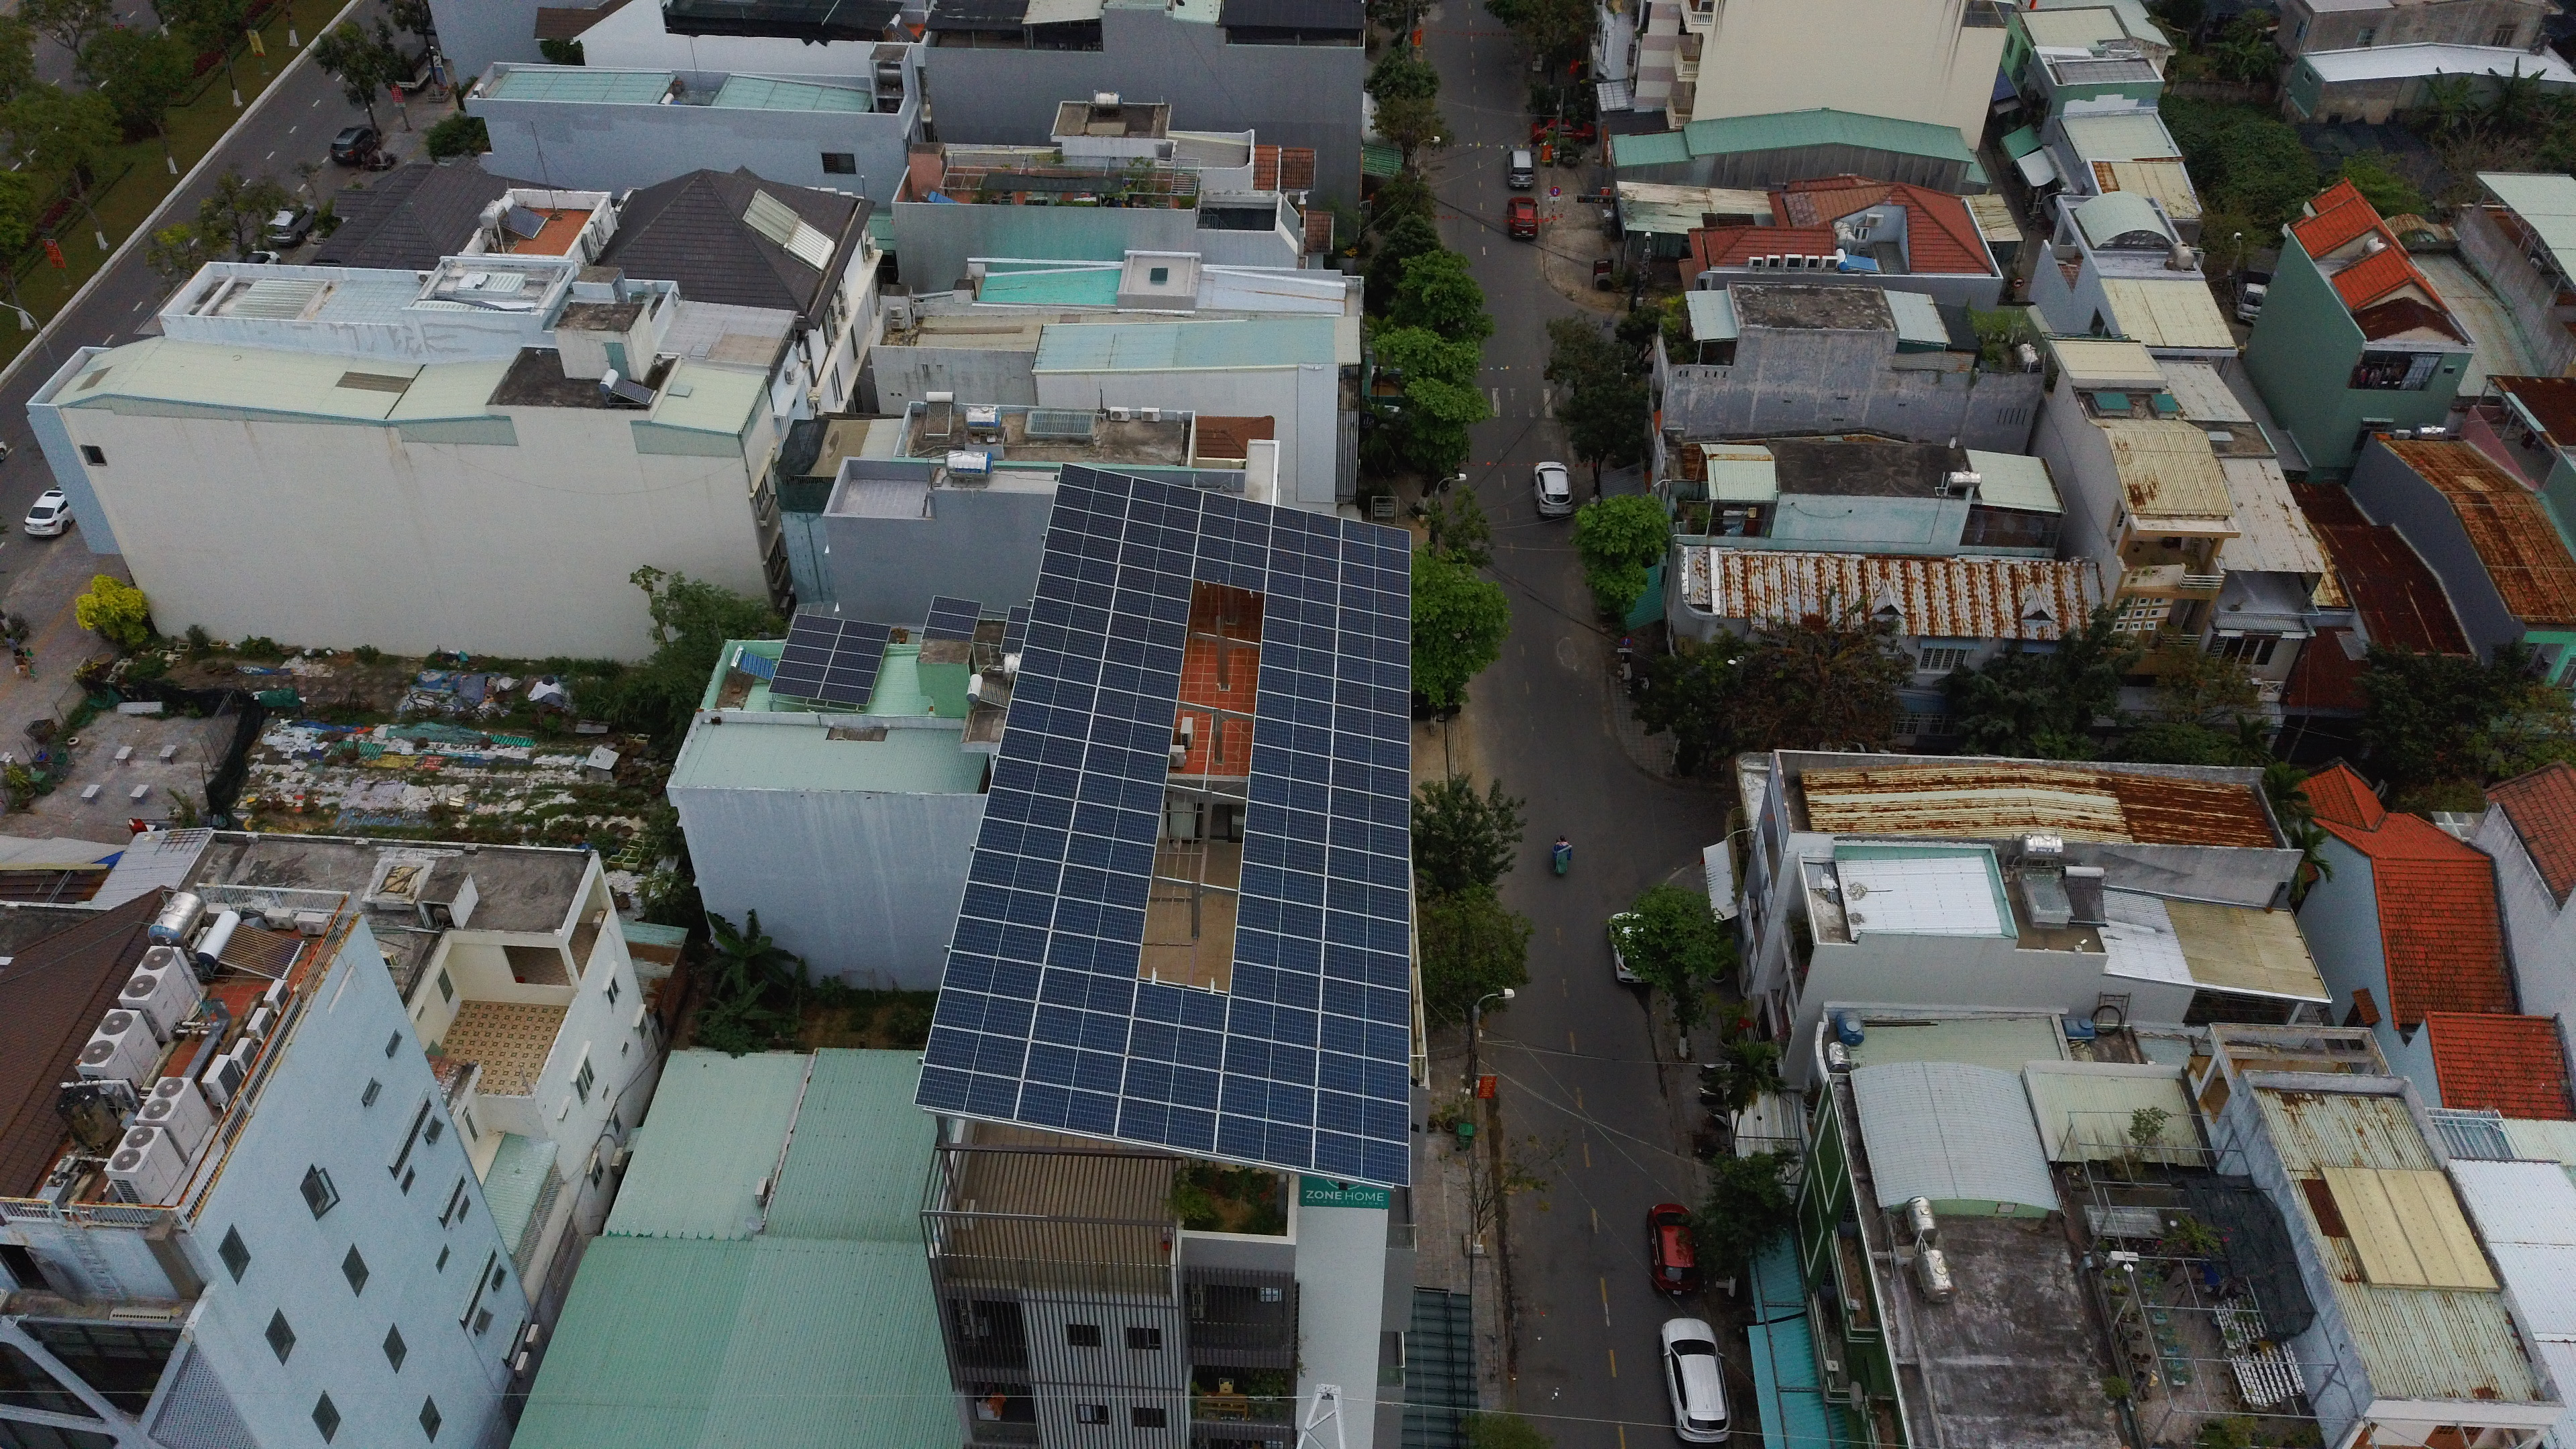solar: (922, 1021, 1031, 1079), (911, 1063, 1021, 1122), (1111, 1093, 1217, 1154), (1014, 1079, 1122, 1138), (1122, 1016, 1226, 1074), (1021, 1040, 1127, 1097), (1116, 1053, 1219, 1111), (1212, 1113, 1313, 1171), (1035, 964, 1138, 1021), (1129, 978, 1231, 1035), (1217, 1072, 1316, 1131), (1311, 1129, 1410, 1187), (939, 948, 1047, 1001), (1221, 1033, 1318, 1092), (932, 987, 1037, 1040), (1030, 1003, 1131, 1058), (947, 915, 1053, 966), (1315, 1088, 1410, 1143), (1316, 1049, 1410, 1104), (957, 879, 1056, 931), (1228, 961, 1323, 1014), (1318, 975, 1410, 1030), (1056, 862, 1154, 913), (1051, 893, 1148, 945), (1040, 929, 1138, 980), (1224, 996, 1318, 1049), (978, 784, 1077, 833), (964, 847, 1063, 897), (1318, 1010, 1410, 1063), (975, 814, 1072, 863), (1042, 931, 1139, 980), (1233, 893, 1323, 945), (1231, 925, 1322, 977), (1322, 906, 1410, 957), (1069, 800, 1161, 847), (1238, 860, 1327, 909), (1322, 941, 1410, 991), (989, 755, 1083, 801), (1060, 833, 1157, 878), (994, 725, 1086, 771), (1074, 770, 1166, 816), (1325, 812, 1412, 860), (1325, 844, 1410, 892), (1083, 740, 1169, 786), (1240, 830, 1327, 876), (1014, 644, 1102, 688), (1010, 669, 1099, 713), (1247, 770, 1332, 816), (1246, 801, 1330, 847), (1240, 828, 1325, 874), (1323, 878, 1408, 924), (1001, 699, 1092, 741), (1249, 741, 1332, 787), (1104, 609, 1189, 653), (1100, 635, 1185, 679), (1097, 660, 1182, 704), (1093, 686, 1178, 731), (1086, 713, 1171, 757), (1254, 688, 1336, 734), (1256, 660, 1336, 706), (1253, 715, 1332, 761), (1329, 731, 1410, 775), (1327, 784, 1408, 828), (1330, 702, 1414, 745), (1327, 757, 1410, 800), (1023, 619, 1108, 660), (1111, 586, 1192, 628), (1033, 571, 1116, 612), (1260, 614, 1339, 655), (1258, 639, 1338, 679), (1030, 594, 1113, 633), (1332, 678, 1408, 720), (1040, 525, 1122, 564), (1336, 653, 1410, 695), (1120, 518, 1198, 557), (1116, 541, 1194, 580), (1200, 488, 1277, 527), (1263, 547, 1341, 586), (1263, 568, 1341, 607), (1054, 462, 1136, 499), (1049, 483, 1131, 520), (1046, 504, 1127, 541), (1039, 548, 1120, 586), (1191, 556, 1270, 593), (1265, 525, 1345, 563), (1261, 593, 1341, 630), (1129, 476, 1207, 513), (1125, 495, 1203, 533), (1113, 563, 1191, 600), (1194, 513, 1272, 550), (1194, 533, 1272, 570), (1339, 517, 1414, 556), (1338, 538, 1412, 577), (1338, 559, 1412, 598), (1338, 580, 1412, 619), (1336, 630, 1410, 669), (1270, 502, 1343, 541), (1338, 607, 1410, 646), (771, 658, 828, 686), (766, 674, 823, 702), (837, 616, 893, 644), (816, 681, 872, 709), (787, 612, 844, 639), (784, 628, 840, 655), (777, 640, 833, 667), (832, 633, 888, 660), (824, 648, 881, 674), (821, 667, 878, 694), (920, 625, 977, 648), (929, 596, 982, 619), (922, 612, 978, 633), (998, 637, 1028, 656), (1005, 605, 1033, 625), (1001, 621, 1030, 639)
